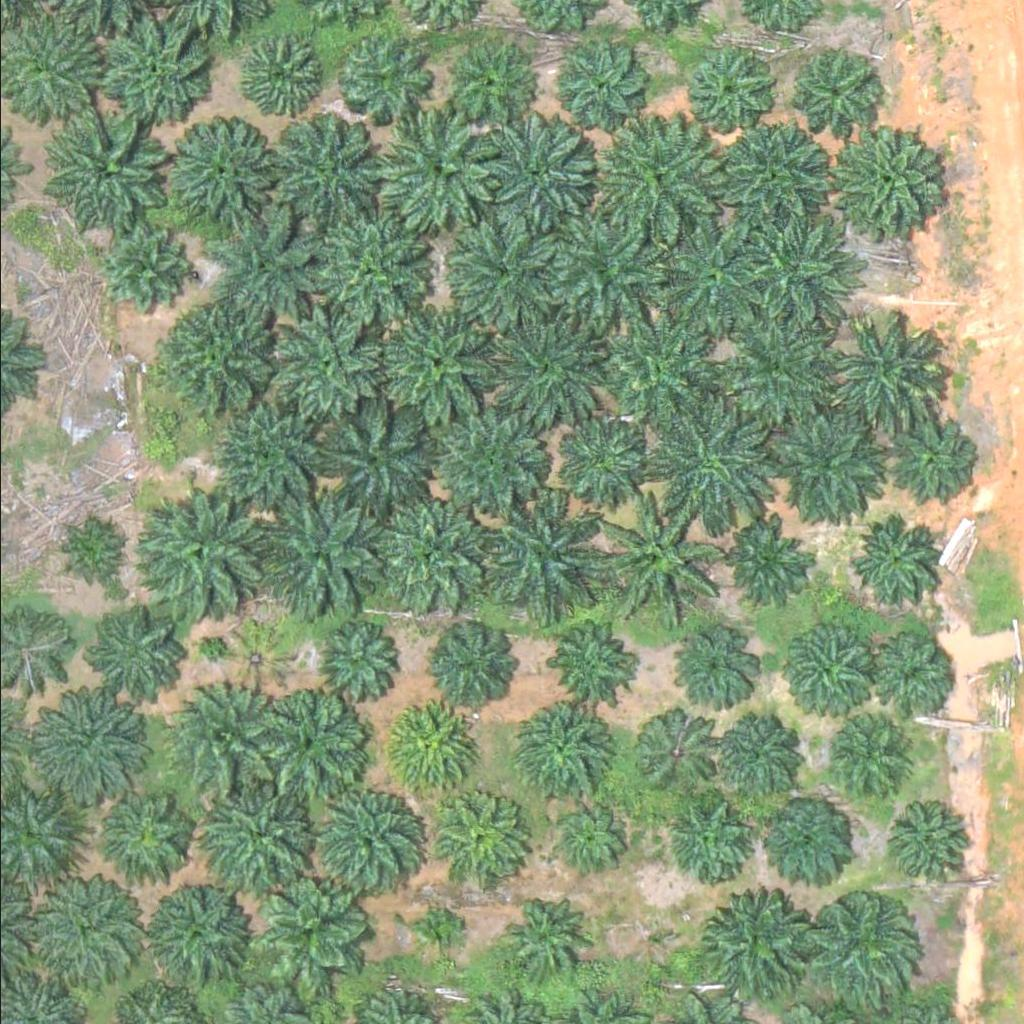Kelapa_Sawit: (823, 313, 949, 438), (715, 305, 841, 430), (587, 310, 713, 435), (475, 310, 601, 435), (365, 304, 491, 429), (152, 298, 278, 423), (201, 208, 327, 333), (305, 204, 431, 329), (538, 211, 664, 336), (646, 216, 772, 341), (726, 210, 852, 335), (706, 114, 832, 239), (477, 113, 603, 238), (372, 109, 498, 234), (39, 107, 165, 232), (85, 14, 211, 139), (644, 395, 770, 520), (418, 395, 544, 520), (311, 392, 437, 517), (202, 393, 328, 518), (247, 487, 373, 612), (135, 495, 261, 620), (475, 495, 601, 620), (591, 492, 717, 617), (159, 674, 285, 799), (303, 780, 429, 905), (187, 777, 313, 902), (247, 872, 373, 997), (797, 889, 923, 1014), (23, 675, 149, 800), (268, 294, 393, 419), (436, 208, 561, 333), (596, 125, 721, 250), (766, 399, 891, 524), (373, 490, 498, 615), (832, 119, 946, 232), (261, 112, 374, 225), (158, 117, 271, 230), (257, 687, 371, 799), (90, 789, 191, 889), (145, 882, 246, 982), (704, 901, 805, 1001), (29, 881, 130, 981), (87, 600, 187, 700), (505, 705, 605, 805), (344, 33, 432, 121), (563, 44, 651, 132), (557, 420, 645, 508), (778, 623, 866, 711), (663, 628, 751, 716), (551, 616, 639, 704), (434, 620, 522, 708), (386, 706, 474, 794), (428, 792, 516, 880), (724, 520, 813, 607), (761, 794, 850, 881), (870, 626, 958, 713), (716, 713, 804, 800), (103, 224, 191, 311), (240, 36, 328, 123), (445, 44, 533, 131), (686, 51, 774, 138), (785, 50, 873, 137), (880, 417, 968, 504), (854, 515, 942, 602), (315, 619, 403, 706), (635, 708, 723, 795), (824, 716, 912, 803), (881, 802, 969, 889), (654, 799, 742, 886), (504, 893, 592, 980), (50, 509, 126, 584), (551, 804, 626, 879), (227, 626, 290, 688), (417, 906, 467, 956)
